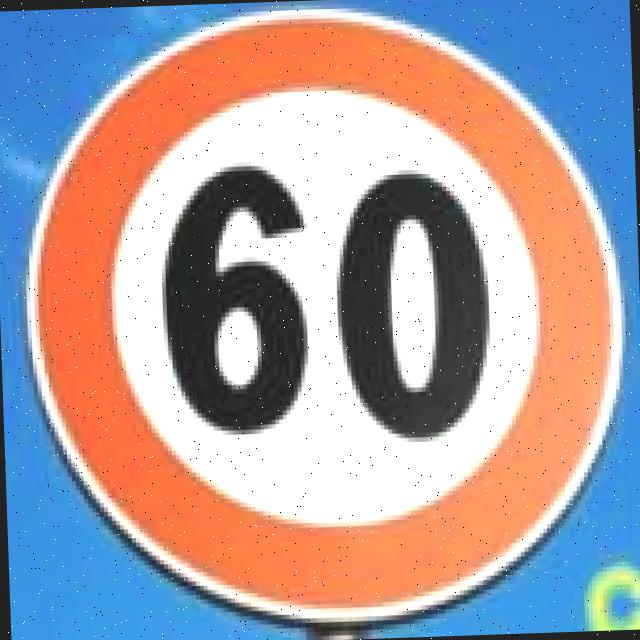Ograniczenie predkosci do 60: (16, 0, 623, 632)
